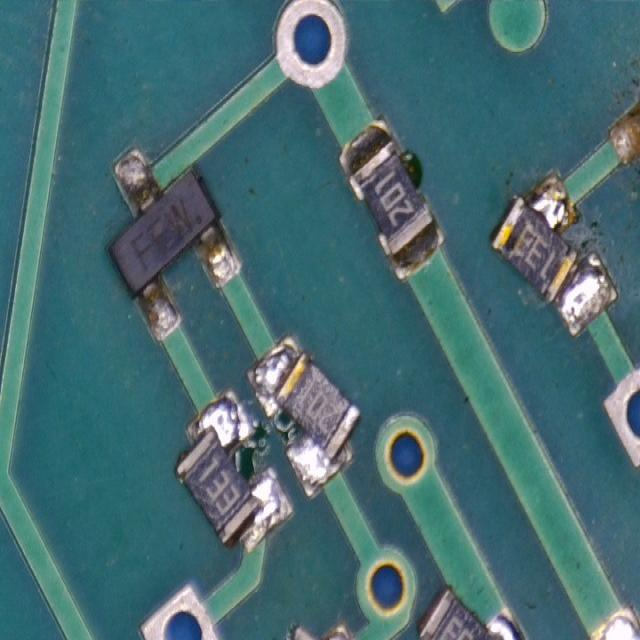Incorrect_installation: (489, 169, 619, 338), (174, 386, 295, 556), (246, 333, 361, 496), (417, 587, 525, 640)
